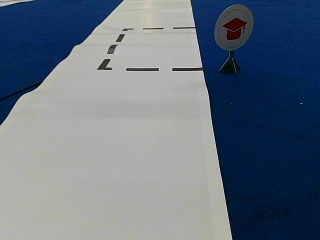school: (214, 4, 252, 50)
